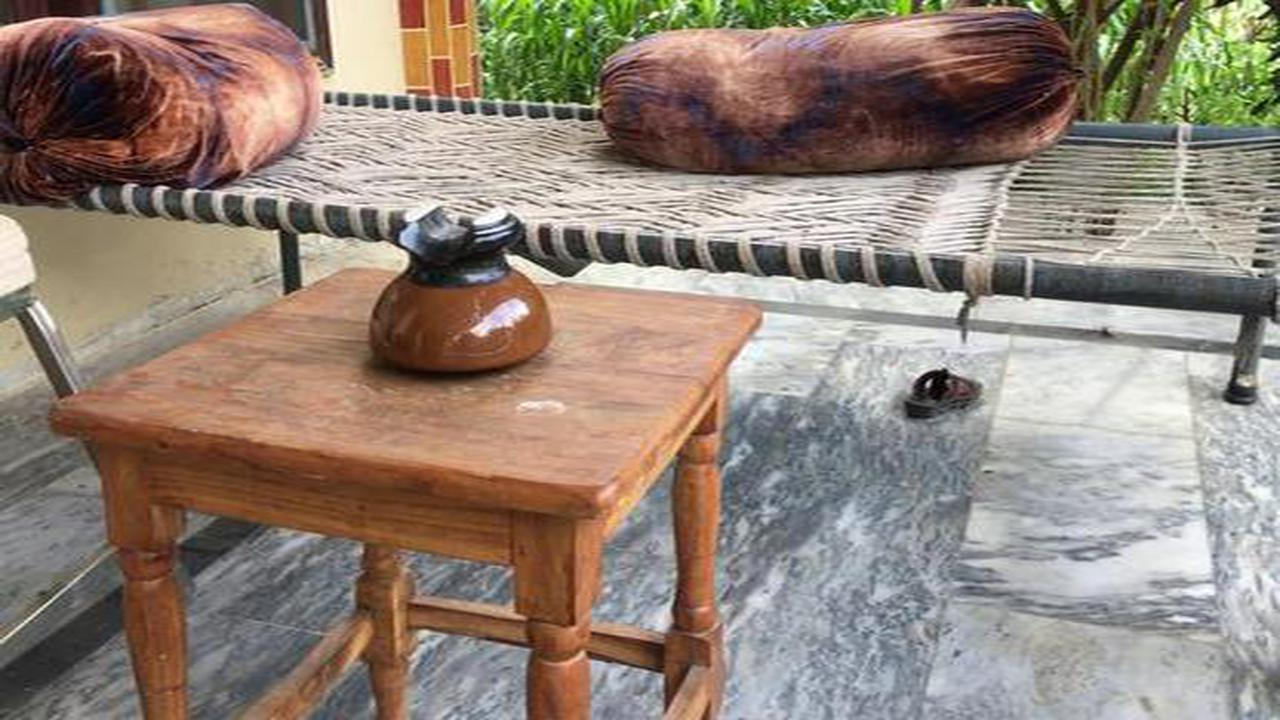insulator_pin: (351, 187, 570, 392)
